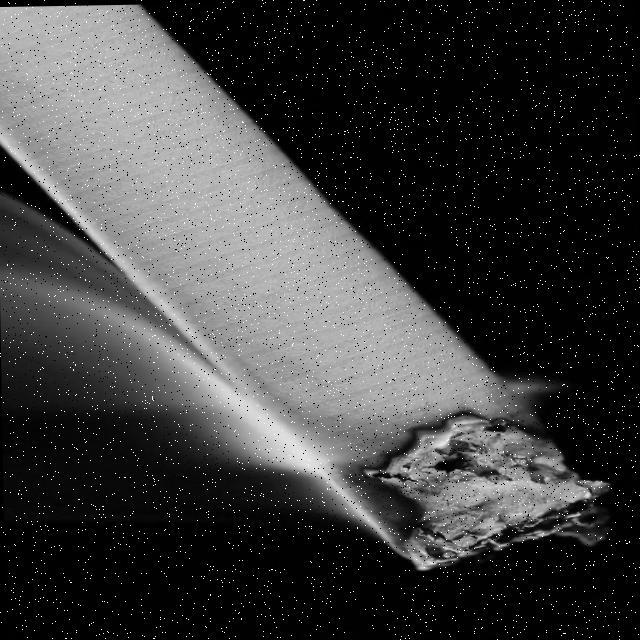cigarette: (0, 0, 621, 574)
